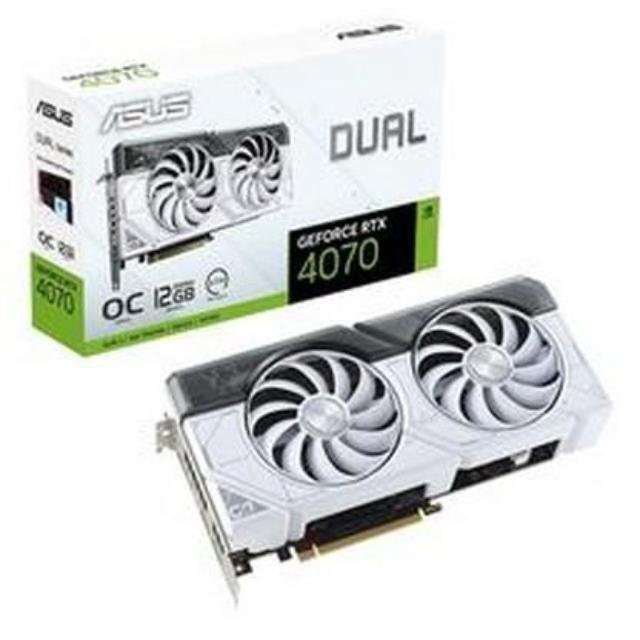GPU: (172, 277, 626, 583)
